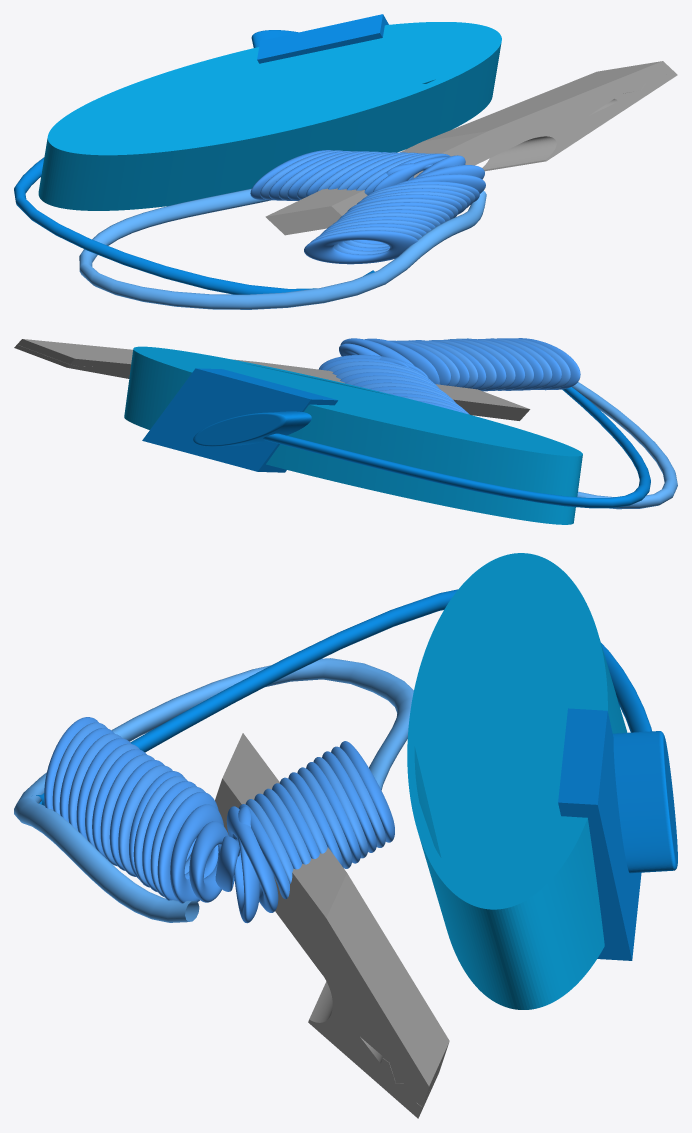
File: ESD Wrist Strap.fbx
3 views of the same model, one above another, from view 1: azimuth 30°, elevation 25°; view 2: azimuth 150°, elevation 25°; view 3: azimuth 270°, elevation 25° (orthographic). The views are drawn at different scales.
Parts seen in each view (by area): view 1: Cylinder, Cube.001, BézierCurve.001, BézierCurve, Cube, BézierCircle.006, BézierCircle.007, BézierCircle.020, BézierCircle.016, BézierCircle.002, BézierCircle.001, BézierCircle.026 (+16 smaller); view 2: Cylinder, Cube, BézierCurve, Cube.001, Cylinder.001, BézierCurve.001, BézierCircle.016, BézierCircle.015, BézierCircle.010, BézierCircle.009, BézierCircle.001, BézierCircle.017 (+21 smaller); view 3: Cylinder, Cube.001, BézierCurve.001, Cube, Cylinder.001, BézierCurve, BézierCircle.016, BézierCircle.017, BézierCircle.020, BézierCircle.015, BézierCircle.019, BézierCircle.010 (+27 smaller).
Boxes of the visible parts, bbox=[...] form: Cylinder: bbox=[38, 22, 501, 210]; Cube.001: bbox=[265, 61, 677, 235]; BézierCurve.001: bbox=[79, 188, 486, 309]; BézierCurve: bbox=[14, 157, 374, 294]; Cube: bbox=[257, 14, 388, 63]; BézierCircle.006: bbox=[304, 230, 418, 264]; BézierCircle.007: bbox=[310, 226, 421, 254]; BézierCircle.020: bbox=[373, 157, 448, 191]; BézierCircle.016: bbox=[395, 174, 485, 193]; BézierCircle.002: bbox=[320, 219, 431, 247]; BézierCircle.001: bbox=[316, 223, 426, 250]; BézierCircle.026: bbox=[250, 150, 332, 199]; Cylinder: bbox=[124, 346, 582, 524]; Cube: bbox=[142, 368, 337, 472]; BézierCurve: bbox=[263, 387, 650, 508]; Cube.001: bbox=[14, 339, 530, 420]; Cylinder.001: bbox=[193, 411, 311, 446]; BézierCurve.001: bbox=[448, 338, 677, 509]; BézierCircle.016: bbox=[365, 338, 439, 384]; BézierCircle.015: bbox=[389, 340, 451, 385]; BézierCircle.010: bbox=[429, 340, 496, 390]; BézierCircle.009: bbox=[442, 339, 506, 391]; BézierCircle.001: bbox=[497, 338, 561, 389]; BézierCircle.017: bbox=[340, 338, 414, 365]; Cylinder: bbox=[407, 553, 627, 1009]; Cube.001: bbox=[215, 733, 449, 1118]; BézierCurve.001: bbox=[14, 658, 413, 922]; Cube: bbox=[558, 708, 641, 960]; Cylinder.001: bbox=[613, 731, 677, 873]; BézierCurve: bbox=[36, 589, 651, 805]; BézierCircle.016: bbox=[170, 804, 223, 905]; BézierCircle.017: bbox=[189, 821, 228, 902]; BézierCircle.020: bbox=[226, 806, 278, 912]; BézierCircle.015: bbox=[157, 792, 218, 900]; BézierCircle.019: bbox=[232, 806, 259, 923]; BézierCircle.010: bbox=[118, 765, 172, 876].
Size of the model in its own units: 1120 by 187 by 623.
